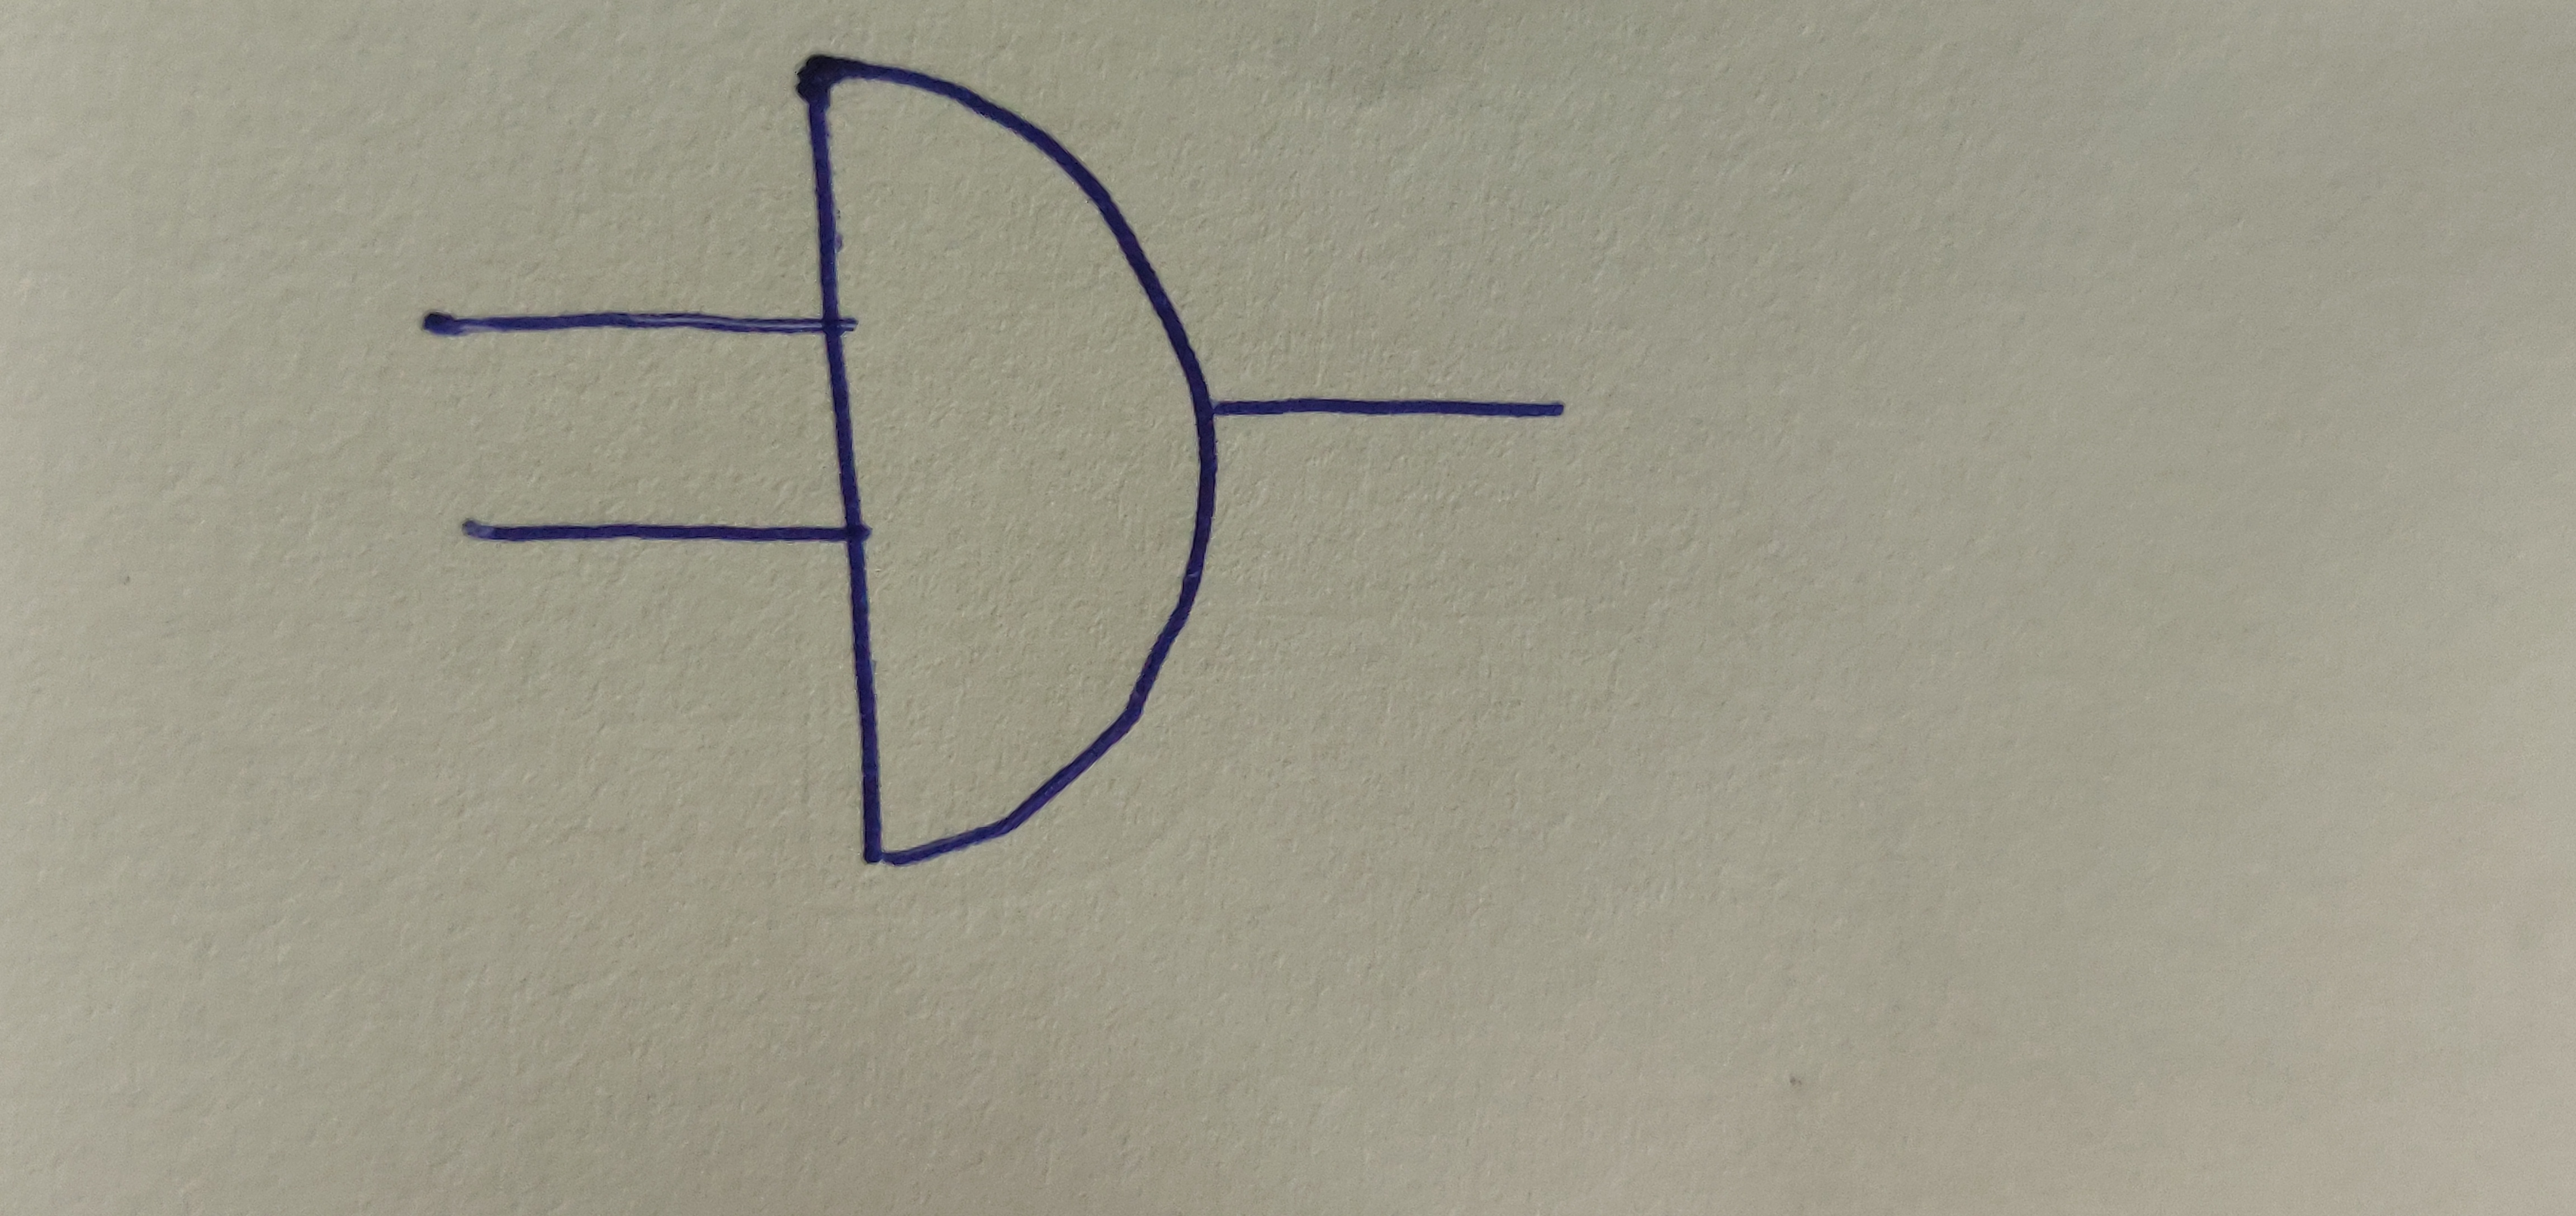and: (792, 54, 1224, 868)
